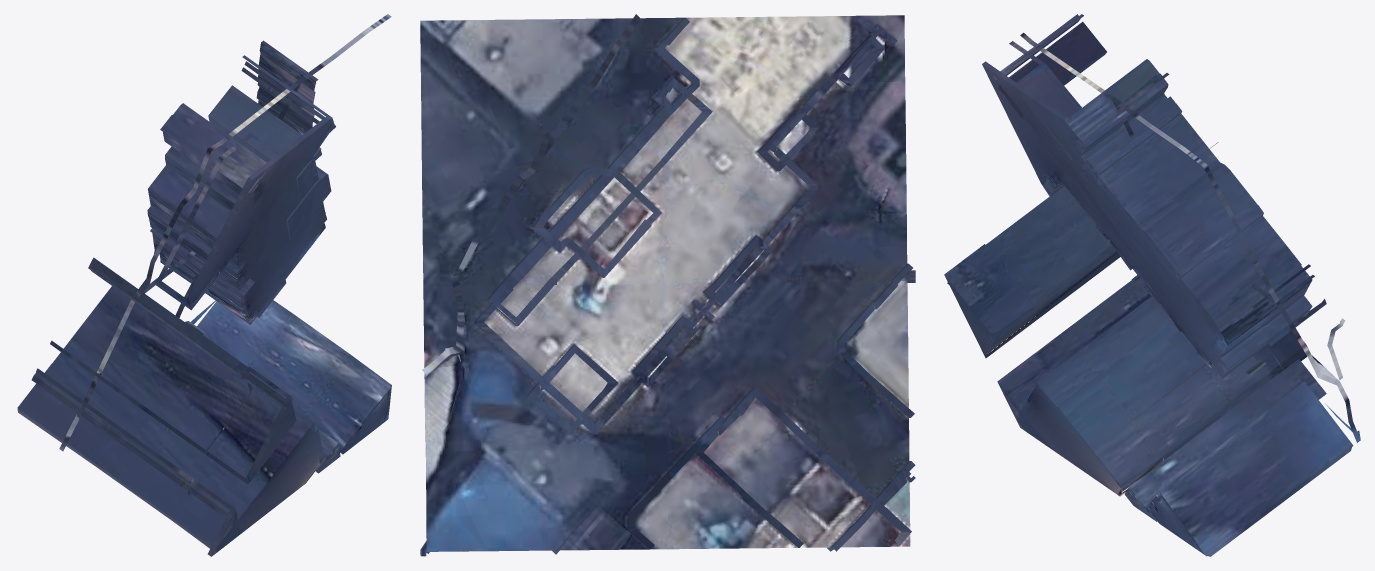
3 views of the same model, side by side, from view 1: azimuth 30°, elevation 25°; view 2: azimuth 150°, elevation 25°; view 3: azimuth 270°, elevation 25° (orthographic). The views are drawn at different scales.
Bounding box in the file's own units: 40.6 × 44.76 × 40.41.
1 material, 1 textured.
